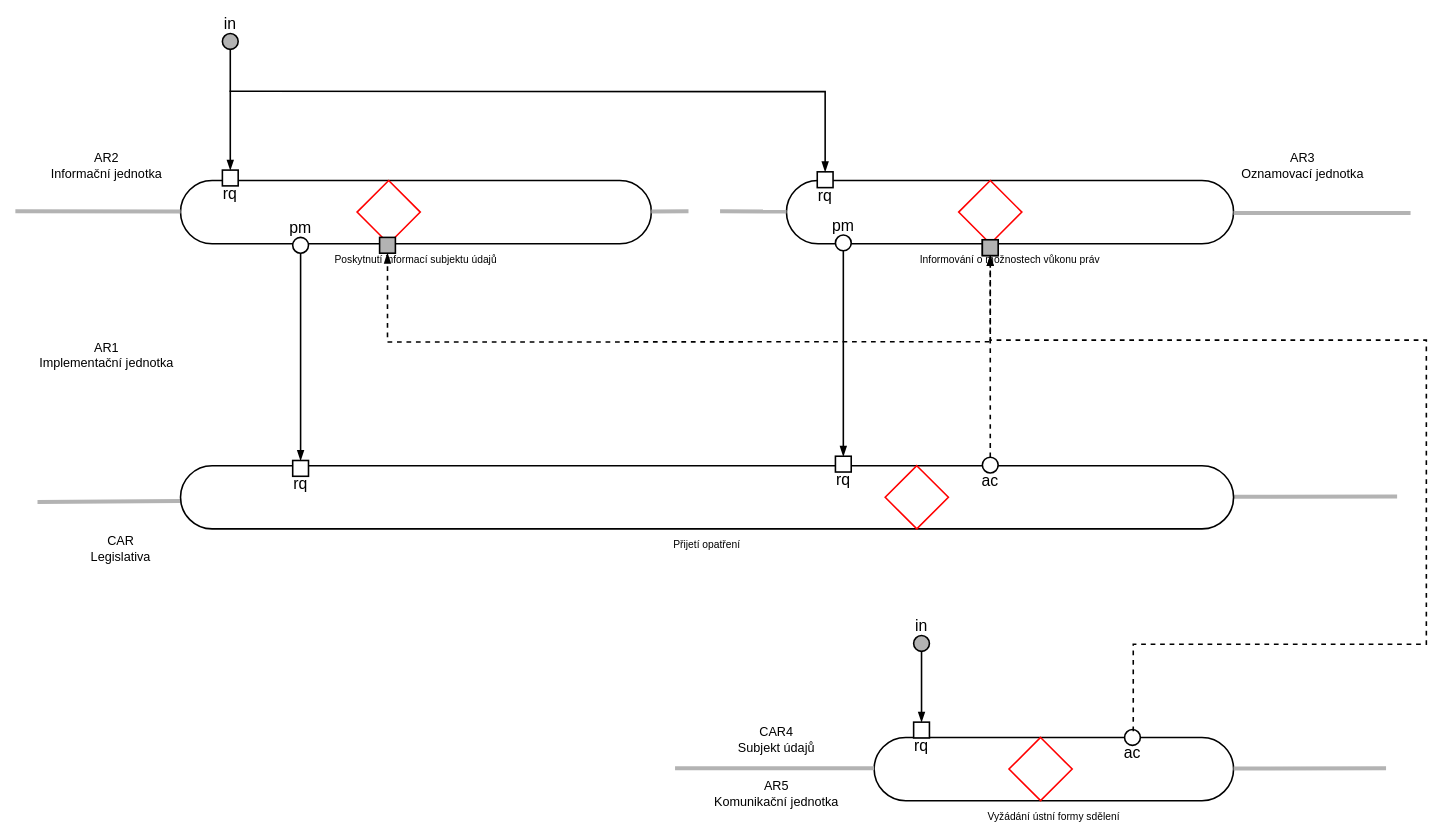
This 1449x837 diagram has some shape labels left out. Each missing label, with the centre of its shape:
TK01: the point at 916,497
TK02: the point at 388,211
TK03: the point at 989,211
TK04: the point at 1040,768
